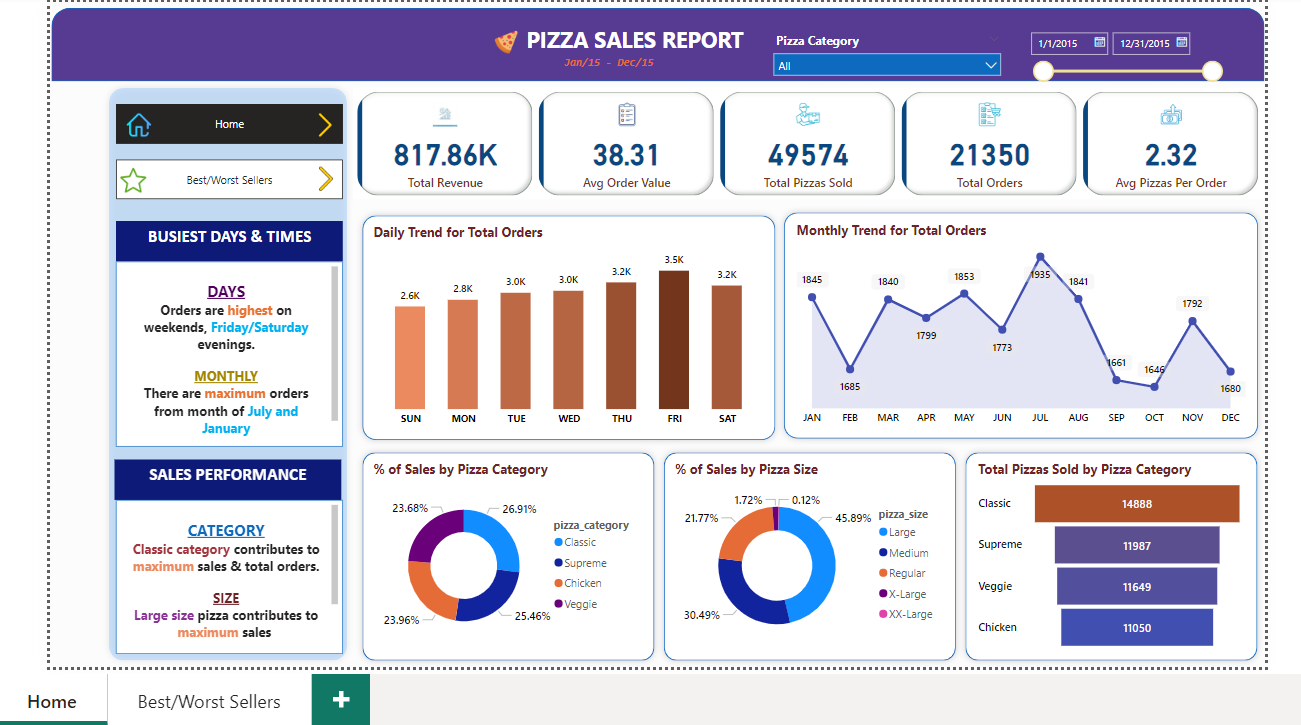

The dashboard page shown, as its layout file describes it:
{"tool":"powerbi","page":{"name":"Home","canvas":[1500,820],"ordinal":0},"visuals":[{"type":"shape","box":[64.5,97.7,309.8,722.9],"z":0},{"type":"cardVisual","fields":{"Data":["pizza_sales.Total Revenue","pizza_sales.Avg Order Value","pizza_sales.Total Pizzas Sold","pizza_sales.Total Orders","pizza_sales.Avg Pizzas Per Order"]},"box":[374.4,105.1,1124.9,138.3],"z":1000},{"type":"shape","box":[1.8,7.4,1497.4,90.4],"z":2000},{"type":"textbox","box":[628.8,59,182.6,29.5],"z":3000},{"type":"textbox","box":[583.3,22.7,300,51.5],"z":4000},{"type":"image","box":[542.4,28.8,40.9,39.4],"z":5000},{"type":"textbox","box":[81.1,271.1,280.3,49.8],"z":6000},{"type":"shape","box":[378,256.3,525.6,293.2],"z":7000},{"type":"columnChart","title":"Daily Trend for Total Orders","fields":{"Category":["pizza_sales.Order Day"],"Y":["pizza_sales.Total Orders"]},"box":[394.6,272.9,492.4,260],"z":8000},{"type":"shape","box":[898.1,252.6,601.2,295.1],"z":9000},{"type":"areaChart","title":"Monthly Trend for Total Orders","fields":{"Category":["pizza_sales.Order Month"],"Y":["pizza_sales.Total Orders"]},"box":[916.5,271.1,564.3,260],"z":10000},{"type":"shape","box":[378,547.7,376.2,272.9],"z":11000},{"type":"shape","box":[750.6,547.7,376.2,272.9],"z":12000},{"type":"shape","box":[1123.1,547.7,376.2,272.9],"z":13000},{"type":"donutChart","title":"% of Sales by Pizza Category","fields":{"Category":["pizza_sales.pizza_category"],"Y":["pizza_sales.Total Revenue"]},"box":[394.6,564.3,341.2,239.7],"z":14000},{"type":"donutChart","title":"% of Sales by Pizza Size","fields":{"Y":["pizza_sales.Total Revenue"],"Category":["pizza_sales.pizza_size"]},"box":[767.2,564.3,341.2,239.7],"z":15000},{"type":"funnel","title":"Total Pizzas Sold by Pizza Category","fields":{"Category":["pizza_sales.pizza_category"],"Y":["pizza_sales.Total Pizzas Sold"]},"box":[1141.5,564.3,337.5,239.7],"z":16000},{"type":"textbox","box":[81.1,320.9,280.3,228.7],"z":17000},{"type":"textbox","box":[79.3,564.3,280.3,49.8],"z":18000},{"type":"textbox","box":[81.1,614.1,280.3,189.9],"z":19000},{"type":"slicer","fields":{"Values":["pizza_sales.pizza_category"]},"box":[883.3,31.4,300.6,66.4],"z":20000},{"type":"slicer","fields":{"Values":["pizza_sales.order_date"]},"box":[1198.7,27.7,258.2,90.4],"z":21000},{"type":"pageNavigator","box":[81.1,125.4,280.3,49.8],"z":22000},{"type":"pageNavigator","box":[81.1,193.6,280.3,49.8],"z":23000},{"type":"image","box":[320.9,191.8,40.6,51.6],"z":24000},{"type":"image","box":[81.1,130.9,57.2,40.6],"z":25000},{"type":"image","box":[81.1,189.9,42.4,59],"z":26000},{"type":"image","box":[306.1,130.9,68.2,40.6],"z":27000}]}

Visuals, with their boxes on the page's 1500x820 design canvas (x1, y1, x2, y2). These are canvas units, not pixel positions in the 1301x725 screenshot, which may show the page scaled, cropped or inside an application window:
shape: 64/98/374/821
cardVisual - pizza_sales.Total Revenue x pizza_sales.Avg Order Value: 374/105/1499/243
shape: 2/7/1499/98
textbox: 629/59/811/88
textbox: 583/23/883/74
image: 542/29/583/68
textbox: 81/271/361/321
shape: 378/256/904/550
"Daily Trend for Total Orders" columnChart: 395/273/887/533
shape: 898/253/1499/548
"Monthly Trend for Total Orders" areaChart: 916/271/1481/531
shape: 378/548/754/821
shape: 751/548/1127/821
shape: 1123/548/1499/821
"% of Sales by Pizza Category" donutChart: 395/564/736/804
"% of Sales by Pizza Size" donutChart: 767/564/1108/804
"Total Pizzas Sold by Pizza Category" funnel: 1142/564/1479/804
textbox: 81/321/361/550
textbox: 79/564/360/614
textbox: 81/614/361/804
slicer - pizza_sales.pizza_category: 883/31/1184/98
slicer - pizza_sales.order_date: 1199/28/1457/118
pageNavigator: 81/125/361/175
pageNavigator: 81/194/361/243
image: 321/192/362/243
image: 81/131/138/172
image: 81/190/124/249
image: 306/131/374/172
